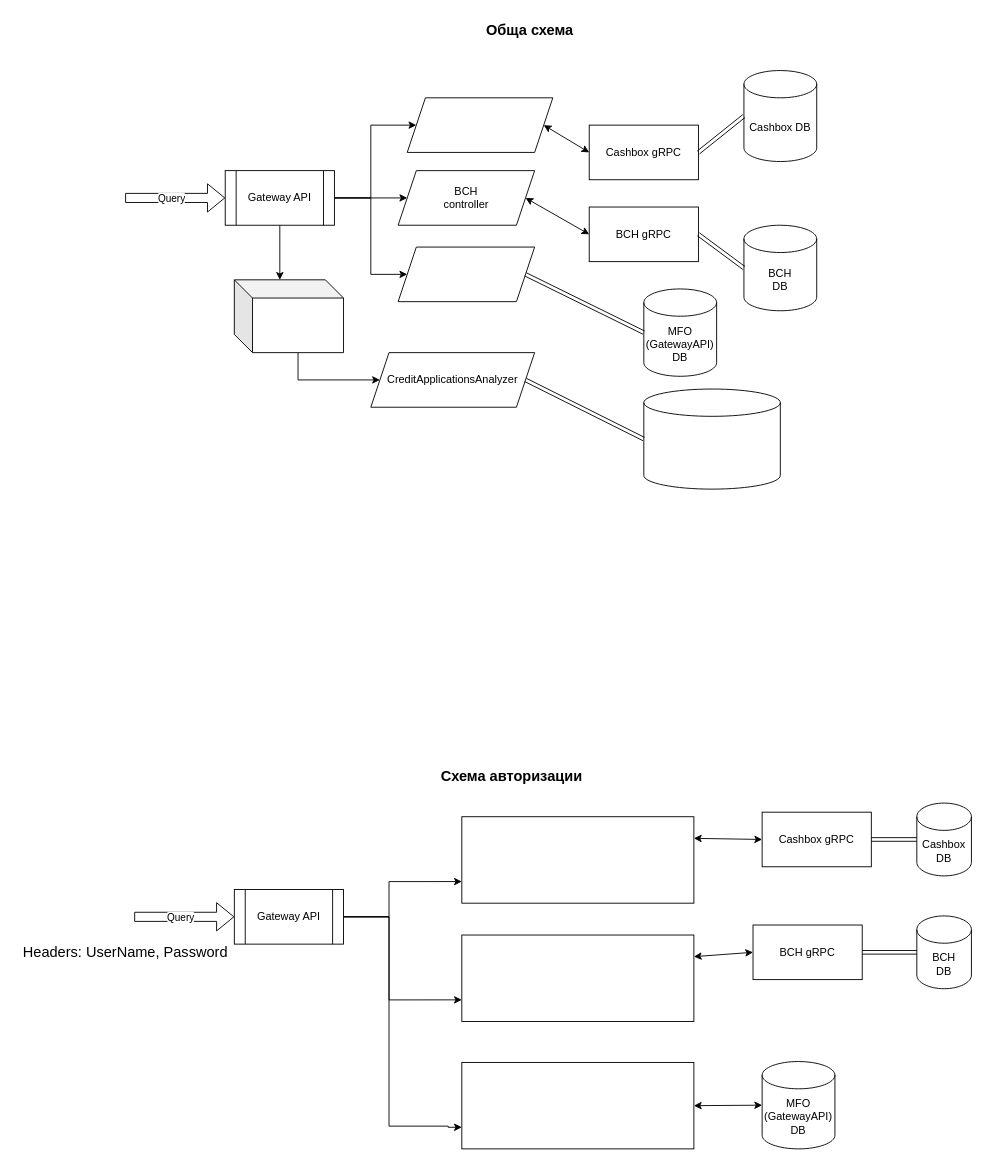
This 987x1165 diagram has some shape labels left out. Each missing label, with the centre of its shape:
"BCH controller + GetRoken(name, password): IActionResult" belongs at point (577, 977).
"Cashbox controller" belongs at point (479, 124).
"Cashbox controller + GetRoken(name, password): IActionResult" belongs at point (577, 859).
"CreditApplicationsService DB" belongs at point (711, 438).
"MFO controller" belongs at point (466, 274).
"MFO controller + GetRoken(name, password): IActionResult" belongs at point (577, 1105).
"Rabbit MQ" belongs at point (288, 316).
